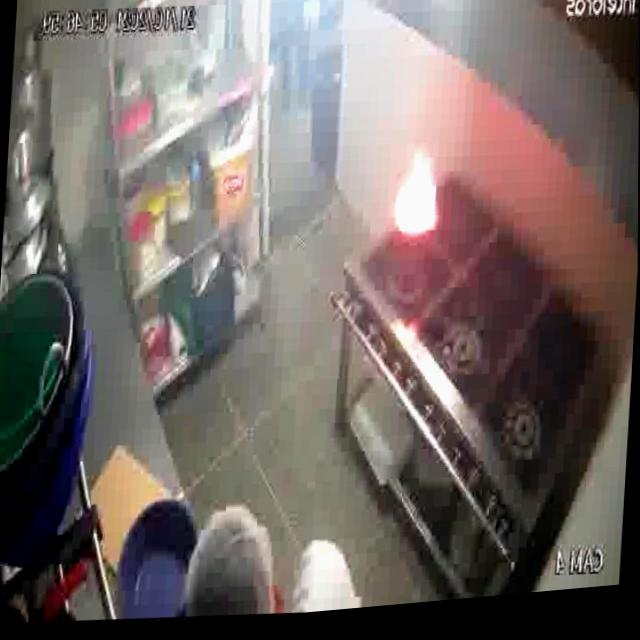helmet: (390, 149, 443, 249)
